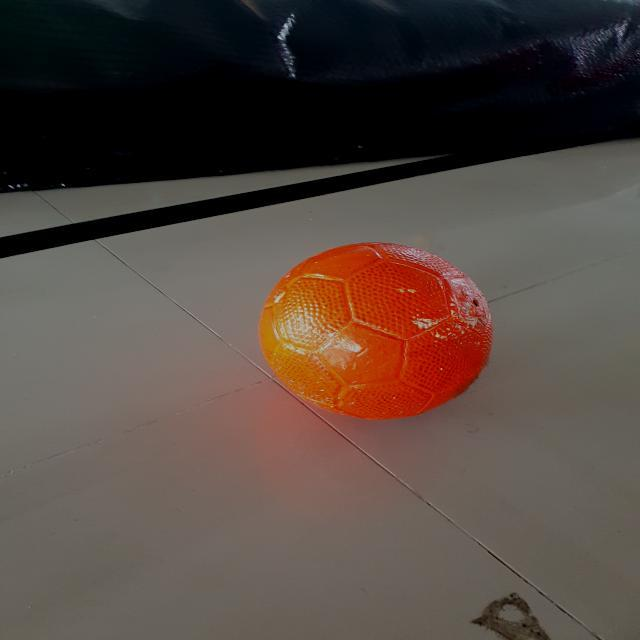bola: (258, 238, 498, 431)
